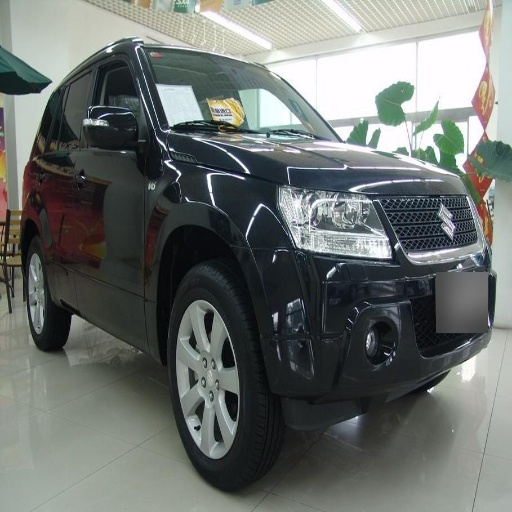front_bumper: (266, 195, 484, 398)
front_right_door: (63, 48, 148, 326)
front_right_light: (278, 183, 393, 260)
